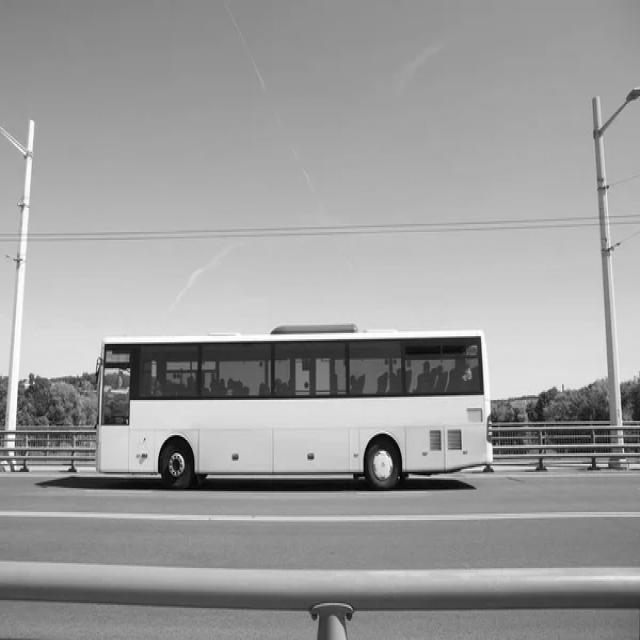Bus: (80, 326, 510, 495)
Pole: (572, 82, 640, 440), (0, 107, 44, 450)
